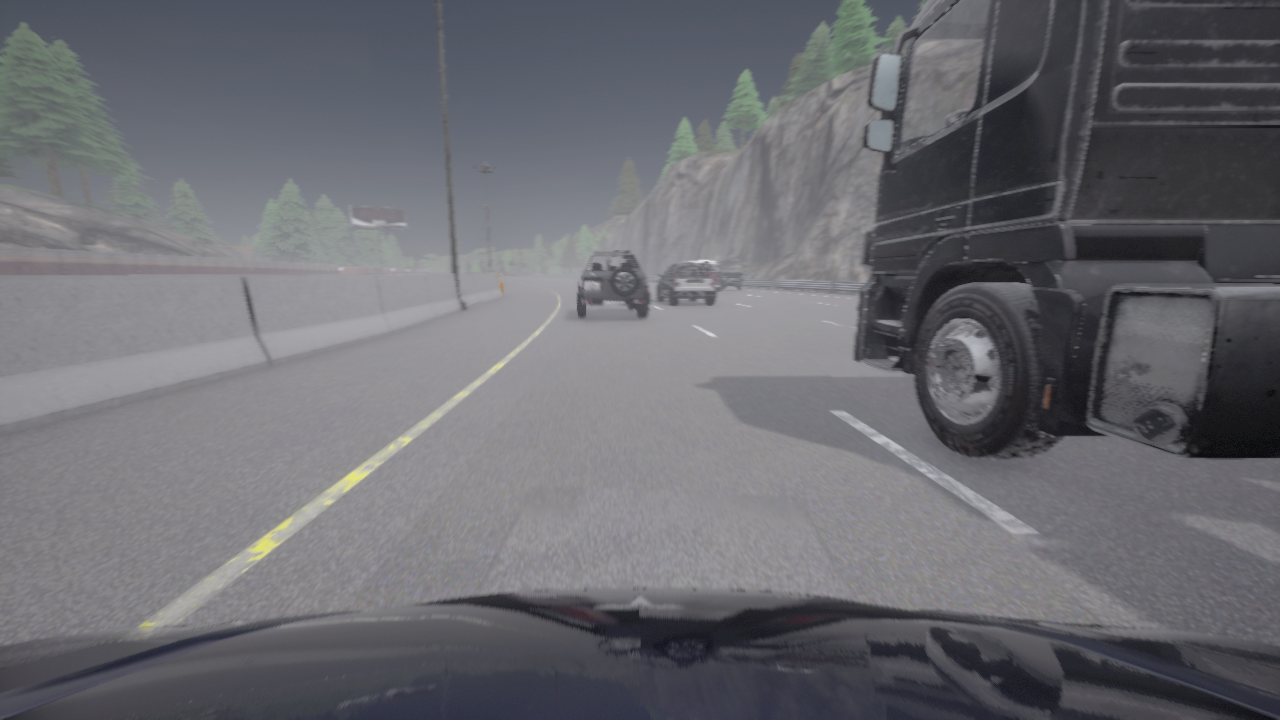cyclist: (854, 0, 1279, 458), (0, 588, 1279, 719), (576, 250, 649, 318), (657, 263, 715, 304), (680, 259, 719, 290), (717, 269, 742, 290)
